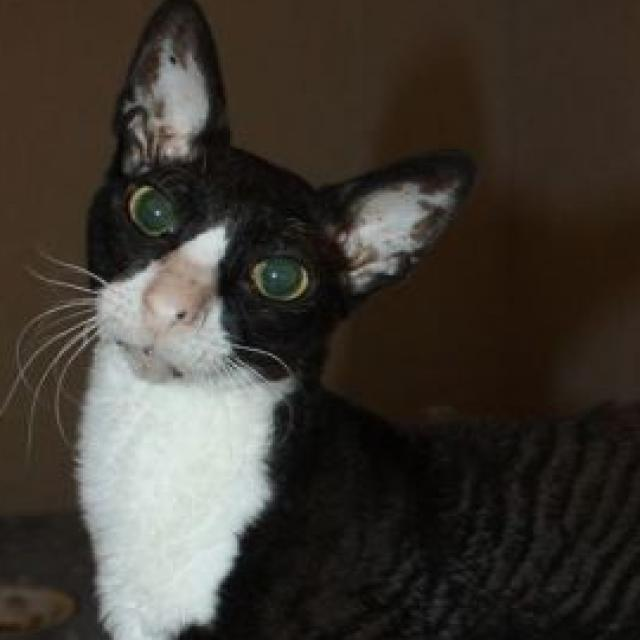Cornish Rex: (64, 0, 640, 640)
